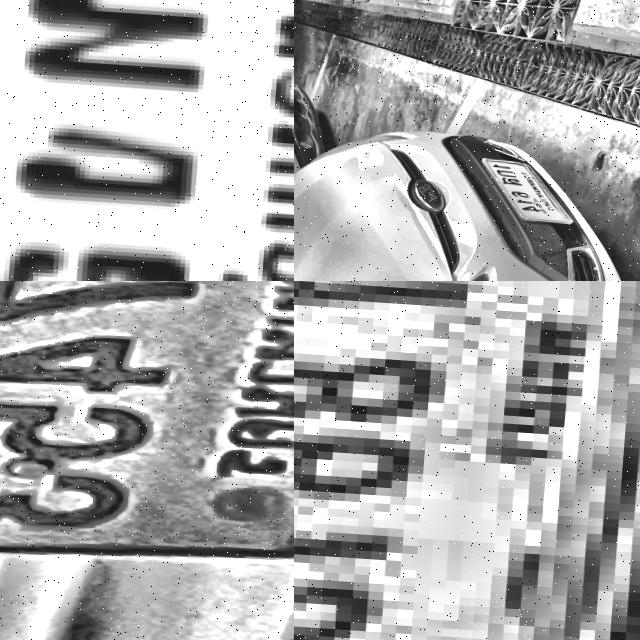license-plate: (294, 281, 640, 640), (0, 281, 294, 584), (0, 0, 294, 281), (477, 145, 587, 221)
